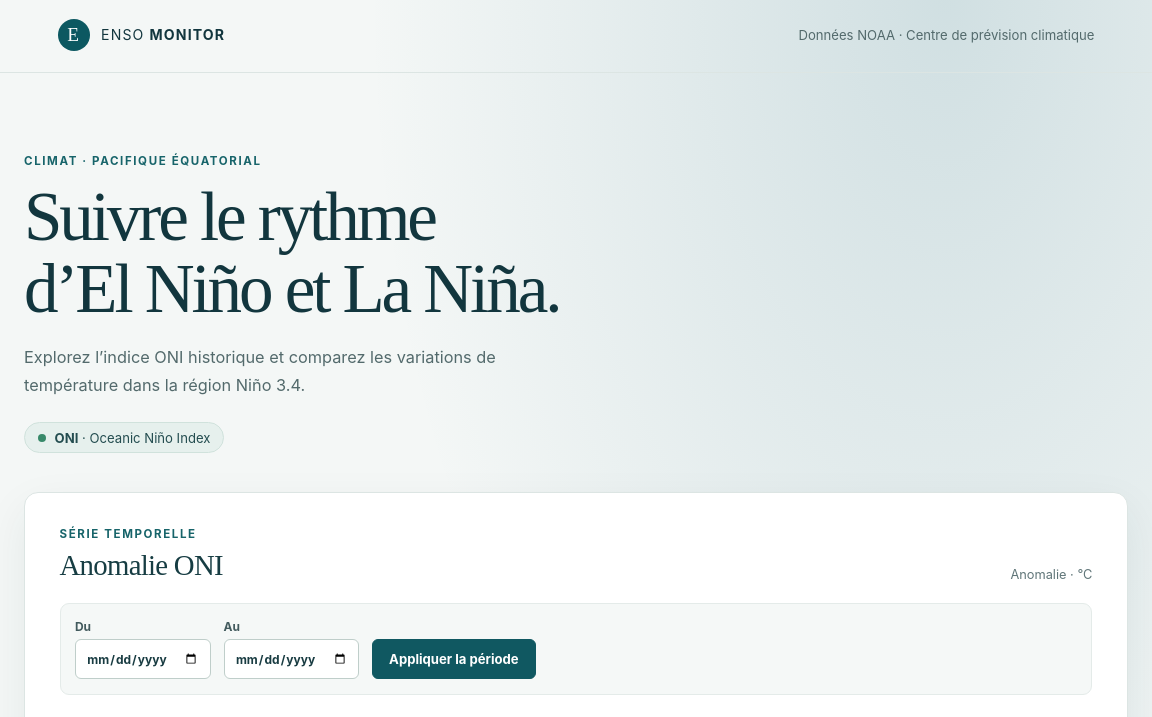
it: tableau de bord ENSO › met à jour la courbe et les valeurs après un changement de période
Type "1997-02-01" into the date field labelled "Du" at x=143, y=659, box [75, 639, 211, 679]
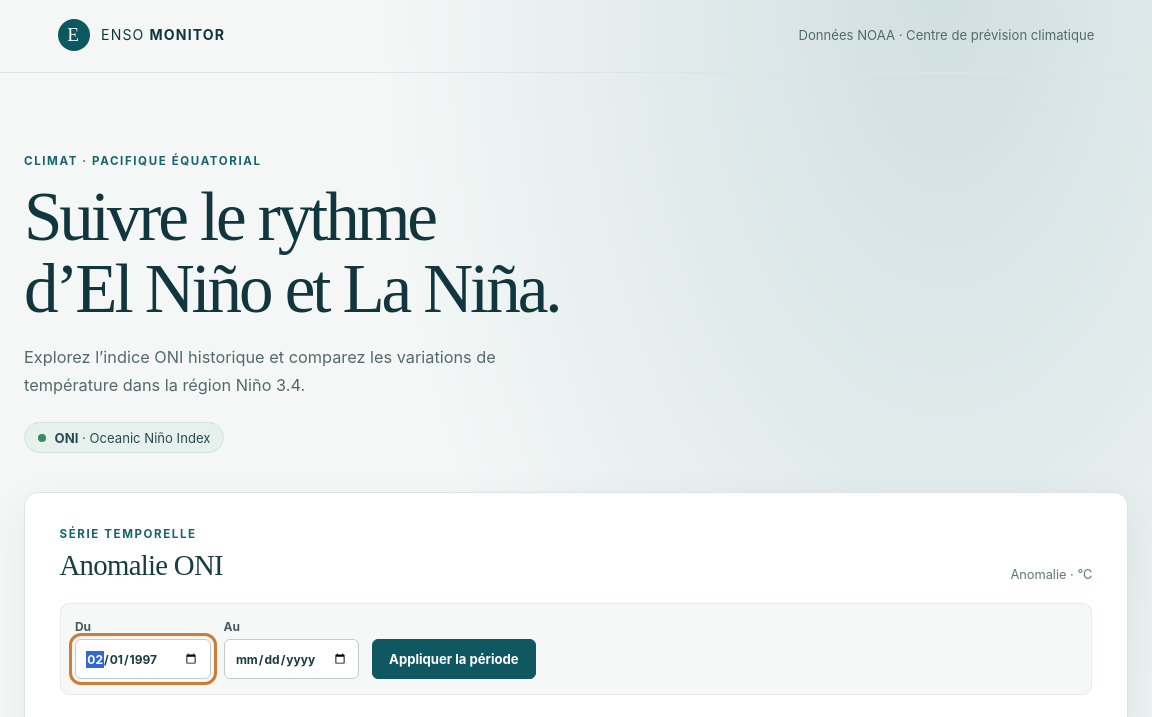
Click the button "Appliquer la période" at x=454, y=659, box [372, 639, 536, 679]
(page scrolled)
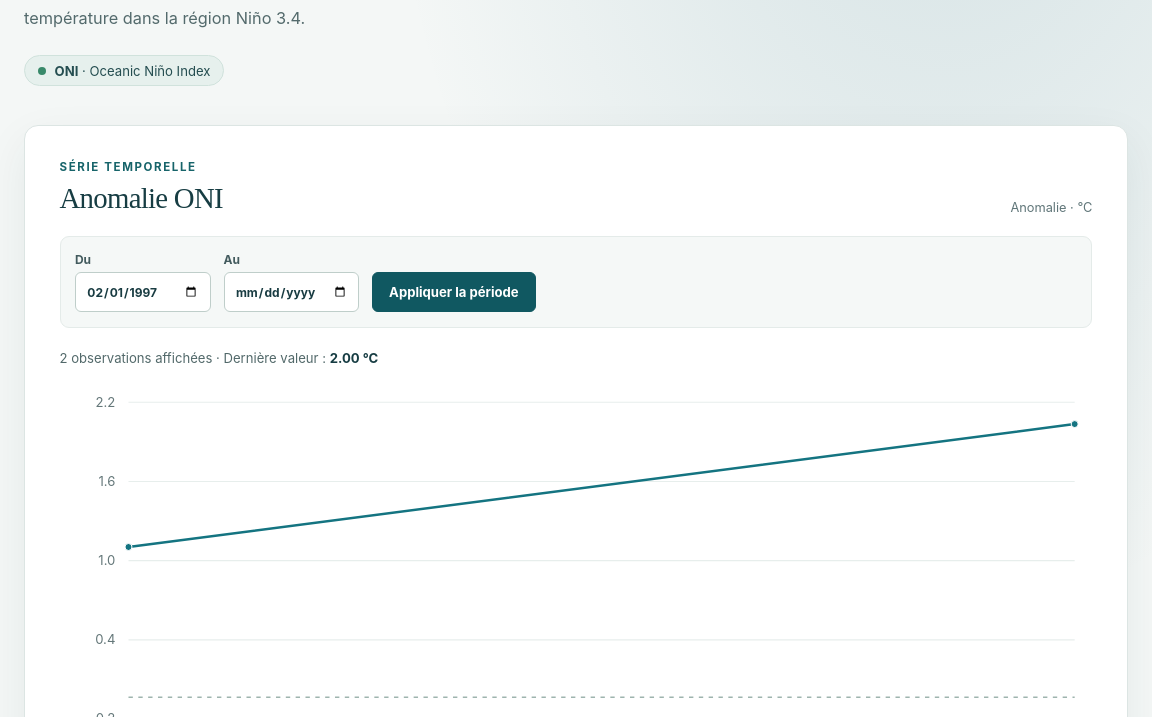
Expected: the text "2 observations affichées · Dernière valeur : 2.00 °C" is shown, [60, 350, 378, 366]
